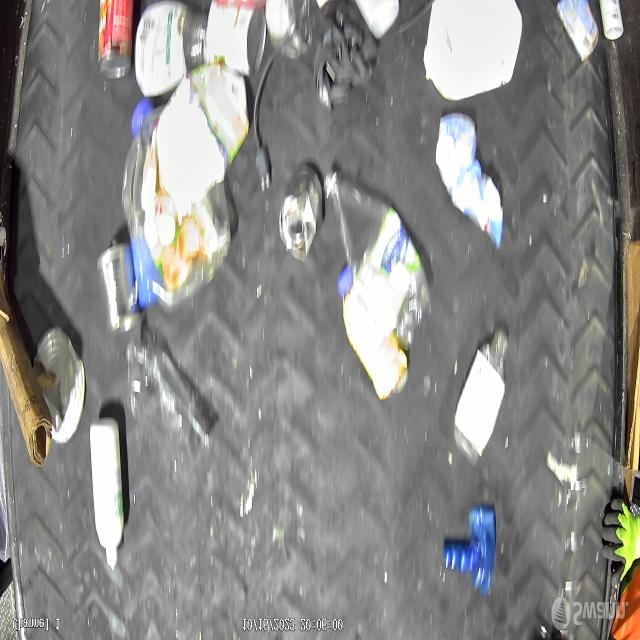can: (33, 326, 86, 446), (202, 0, 267, 78), (278, 164, 324, 264), (96, 242, 142, 338), (98, 0, 135, 83), (599, 0, 624, 42)
milk_jug: (422, 0, 524, 104)
plastic_bottle: (323, 168, 432, 346)
